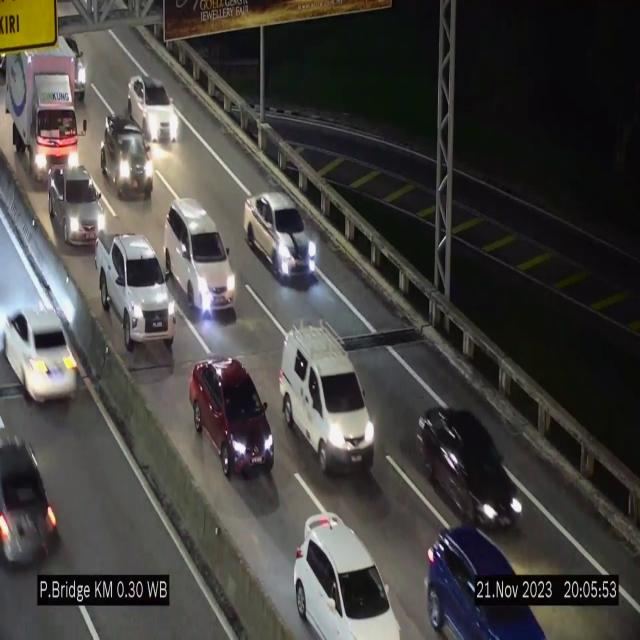Car: (410, 396, 520, 530), (280, 323, 375, 472), (185, 349, 274, 482), (94, 236, 176, 353), (165, 200, 236, 318), (243, 192, 320, 280), (44, 161, 110, 248), (99, 109, 153, 202), (127, 76, 181, 142)
Truck: (5, 39, 80, 178)
